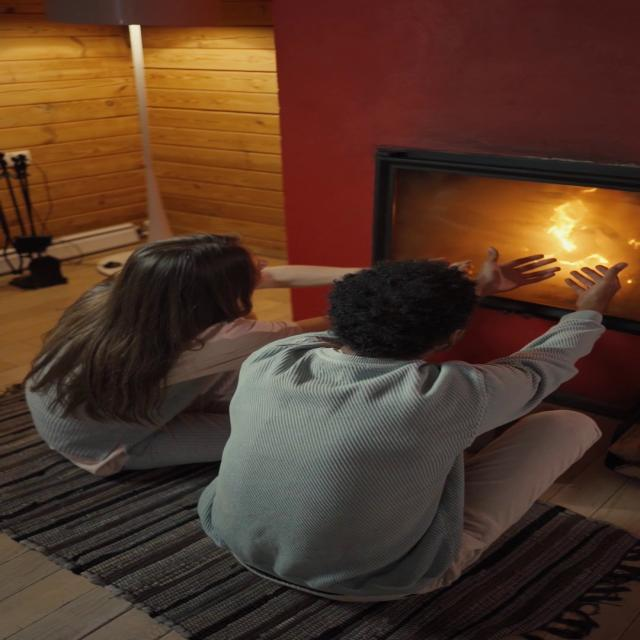Fire: (513, 188, 632, 270)
